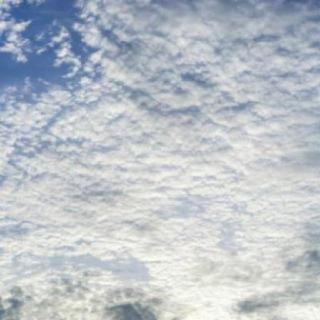Altocumulus: (0, 0, 306, 320)
